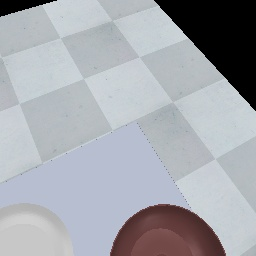Bowl: (110, 202, 226, 254)
Plate: (0, 201, 72, 256)
